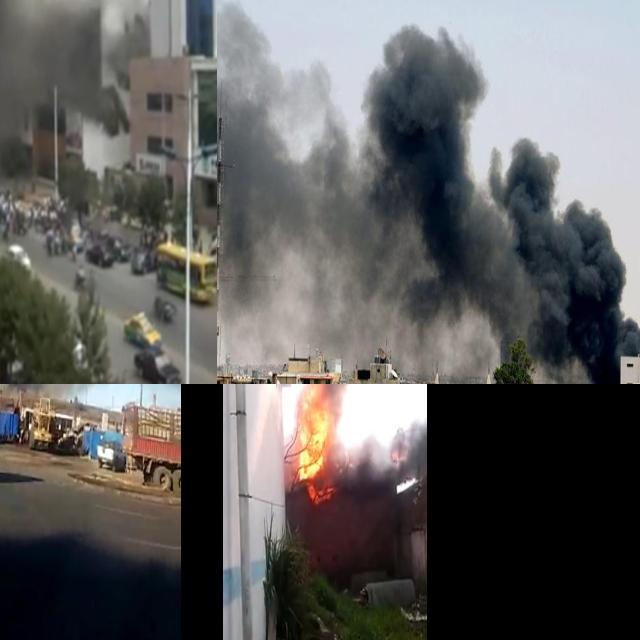fire: (295, 384, 333, 485)
smoke: (217, 0, 640, 384), (0, 0, 150, 130)
